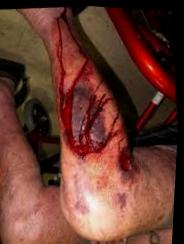Fire: (52, 5, 131, 169)
